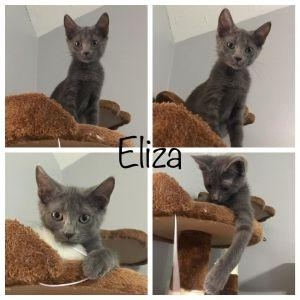rblue: (32, 165, 120, 253)
